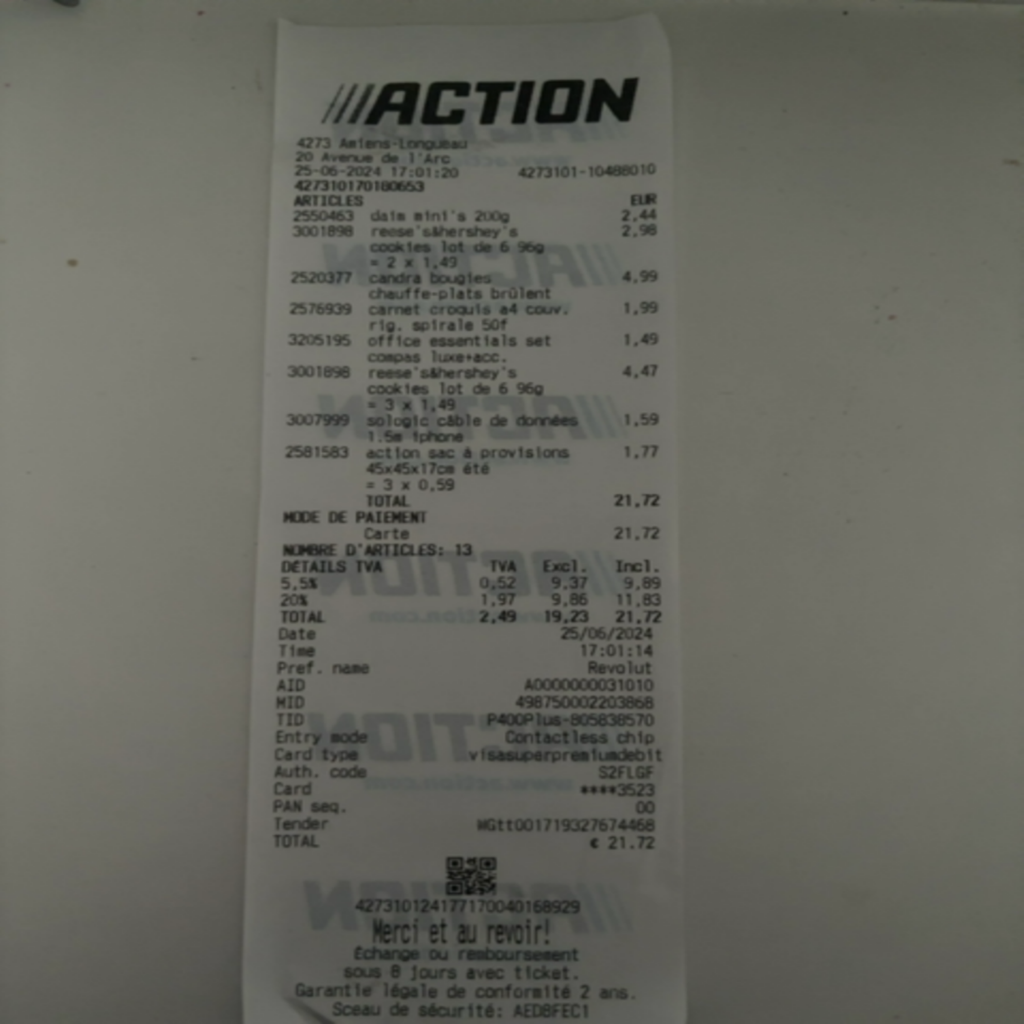recipt: (245, 8, 686, 1024)
